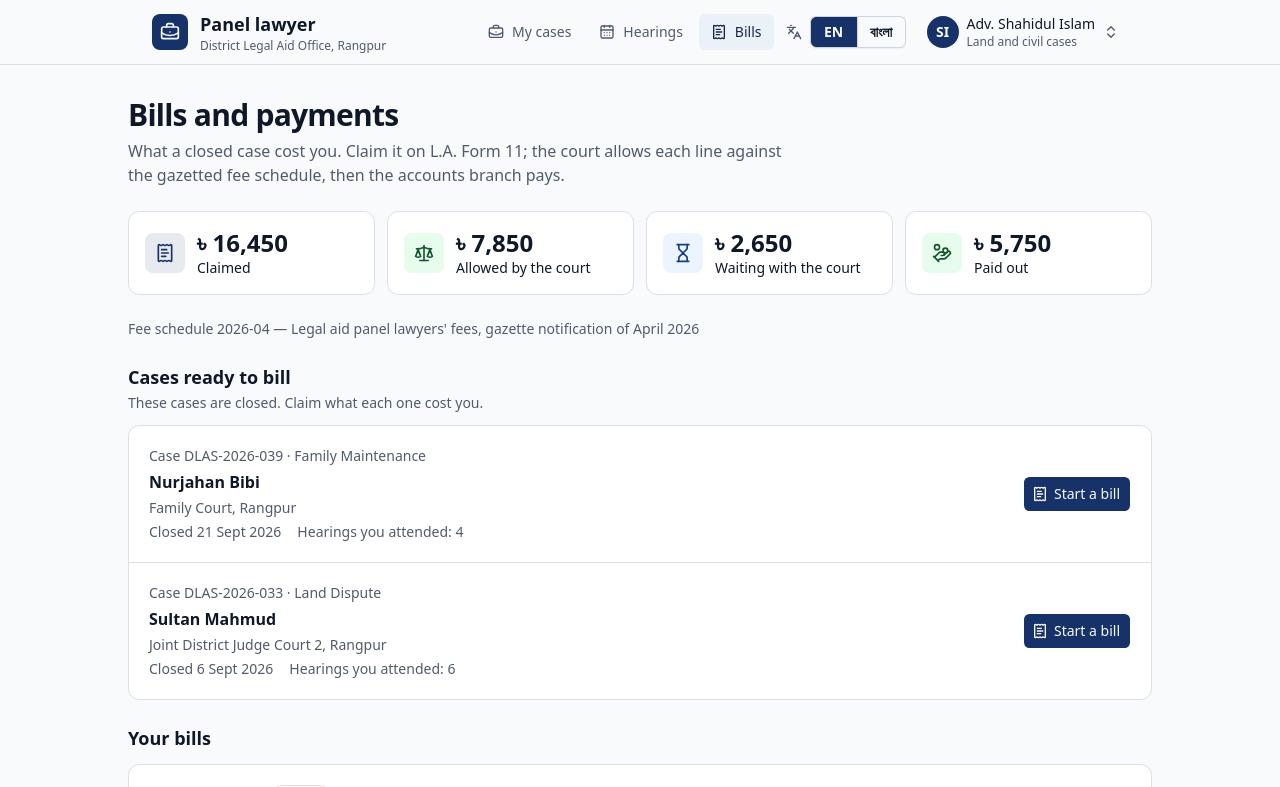
Test case: starting a bill for a closed case › opens an empty bill for the case and takes the lawyer to it
Click the button with aria-label "Start a bill: Nurjahan Bibi".
click(1077, 494)  # box [1023,476,1131,512]
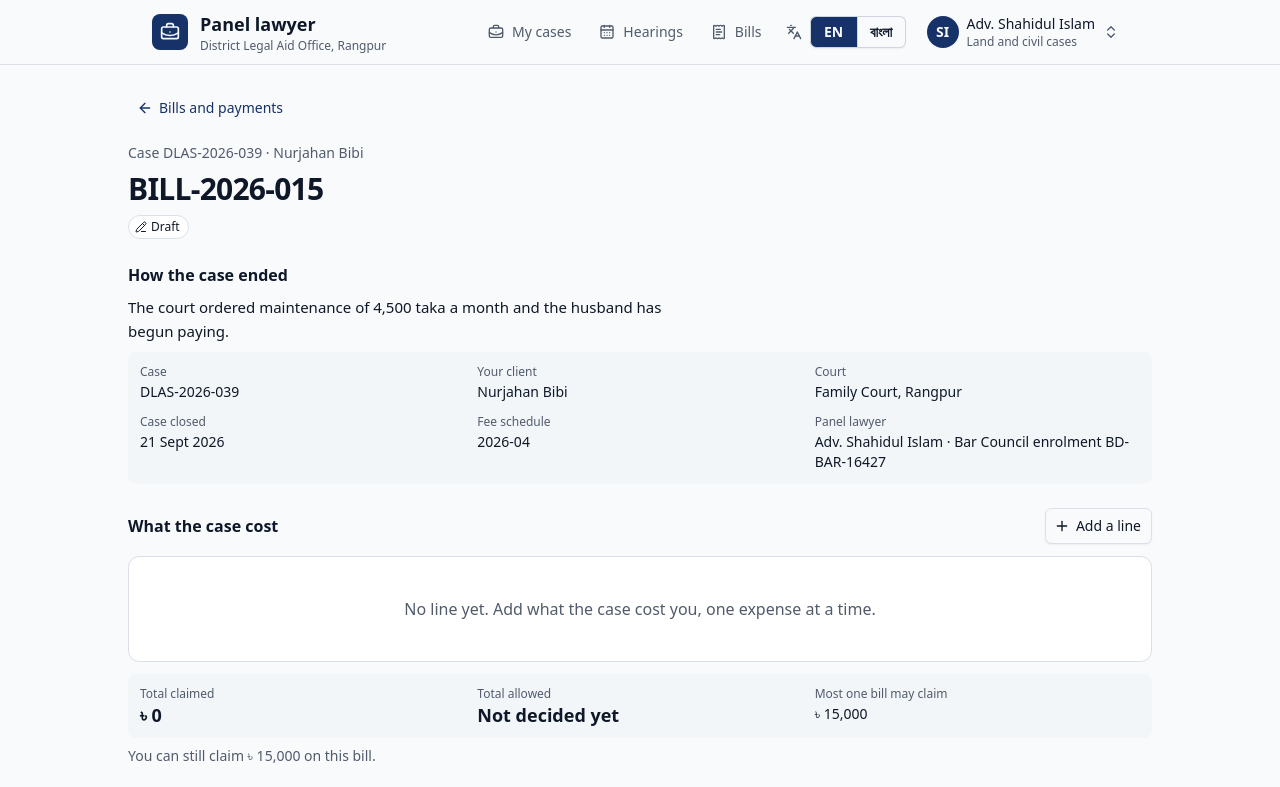
expect the heading "BILL-2026-015" is shown: met, box [128,168,323,209]
expect the text "Case DLAS-2026-039 · Nurjahan Bibi" is shown: met, box [128,143,364,162]
expect the text "No line yet. Add what the case cost you, one expense at a time." is shown: met, box [128,556,1152,662]
